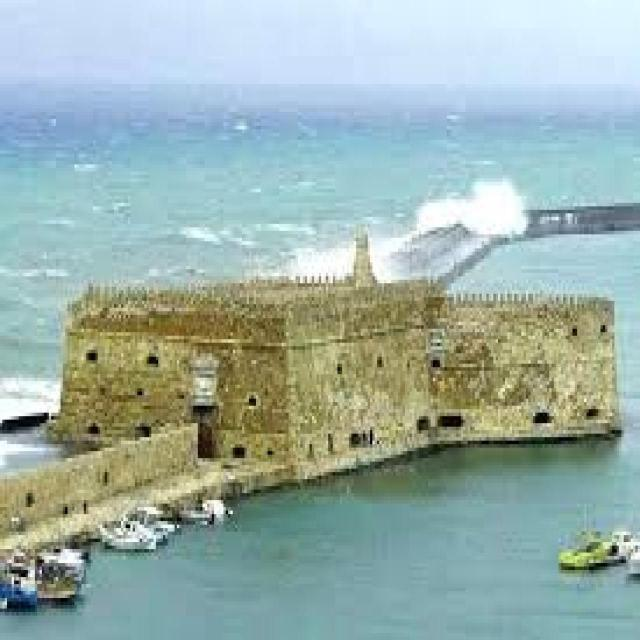Kules: (53, 220, 621, 445)
